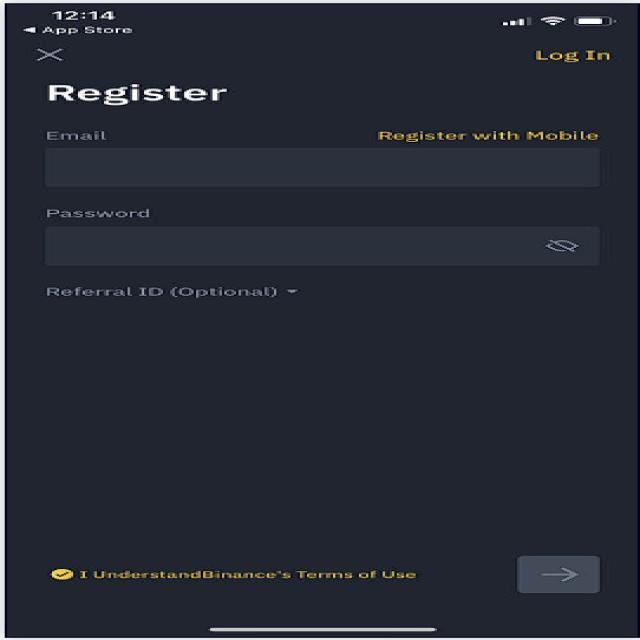icon button: (502, 545, 614, 602), (18, 36, 99, 71)
input: (21, 119, 628, 196), (21, 201, 621, 278)
spacer: (24, 318, 600, 535)
text: (21, 282, 375, 306), (36, 81, 262, 106), (517, 47, 616, 64)
